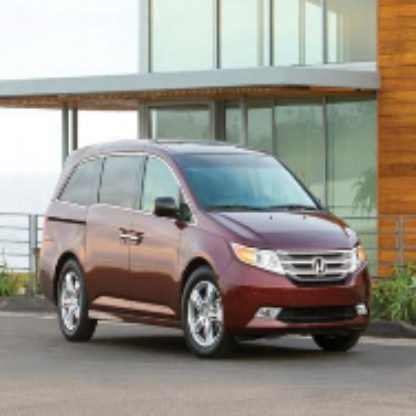Vehicle: (35, 137, 375, 362)
